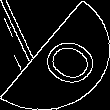O_NW: (17, 22, 93, 88)
